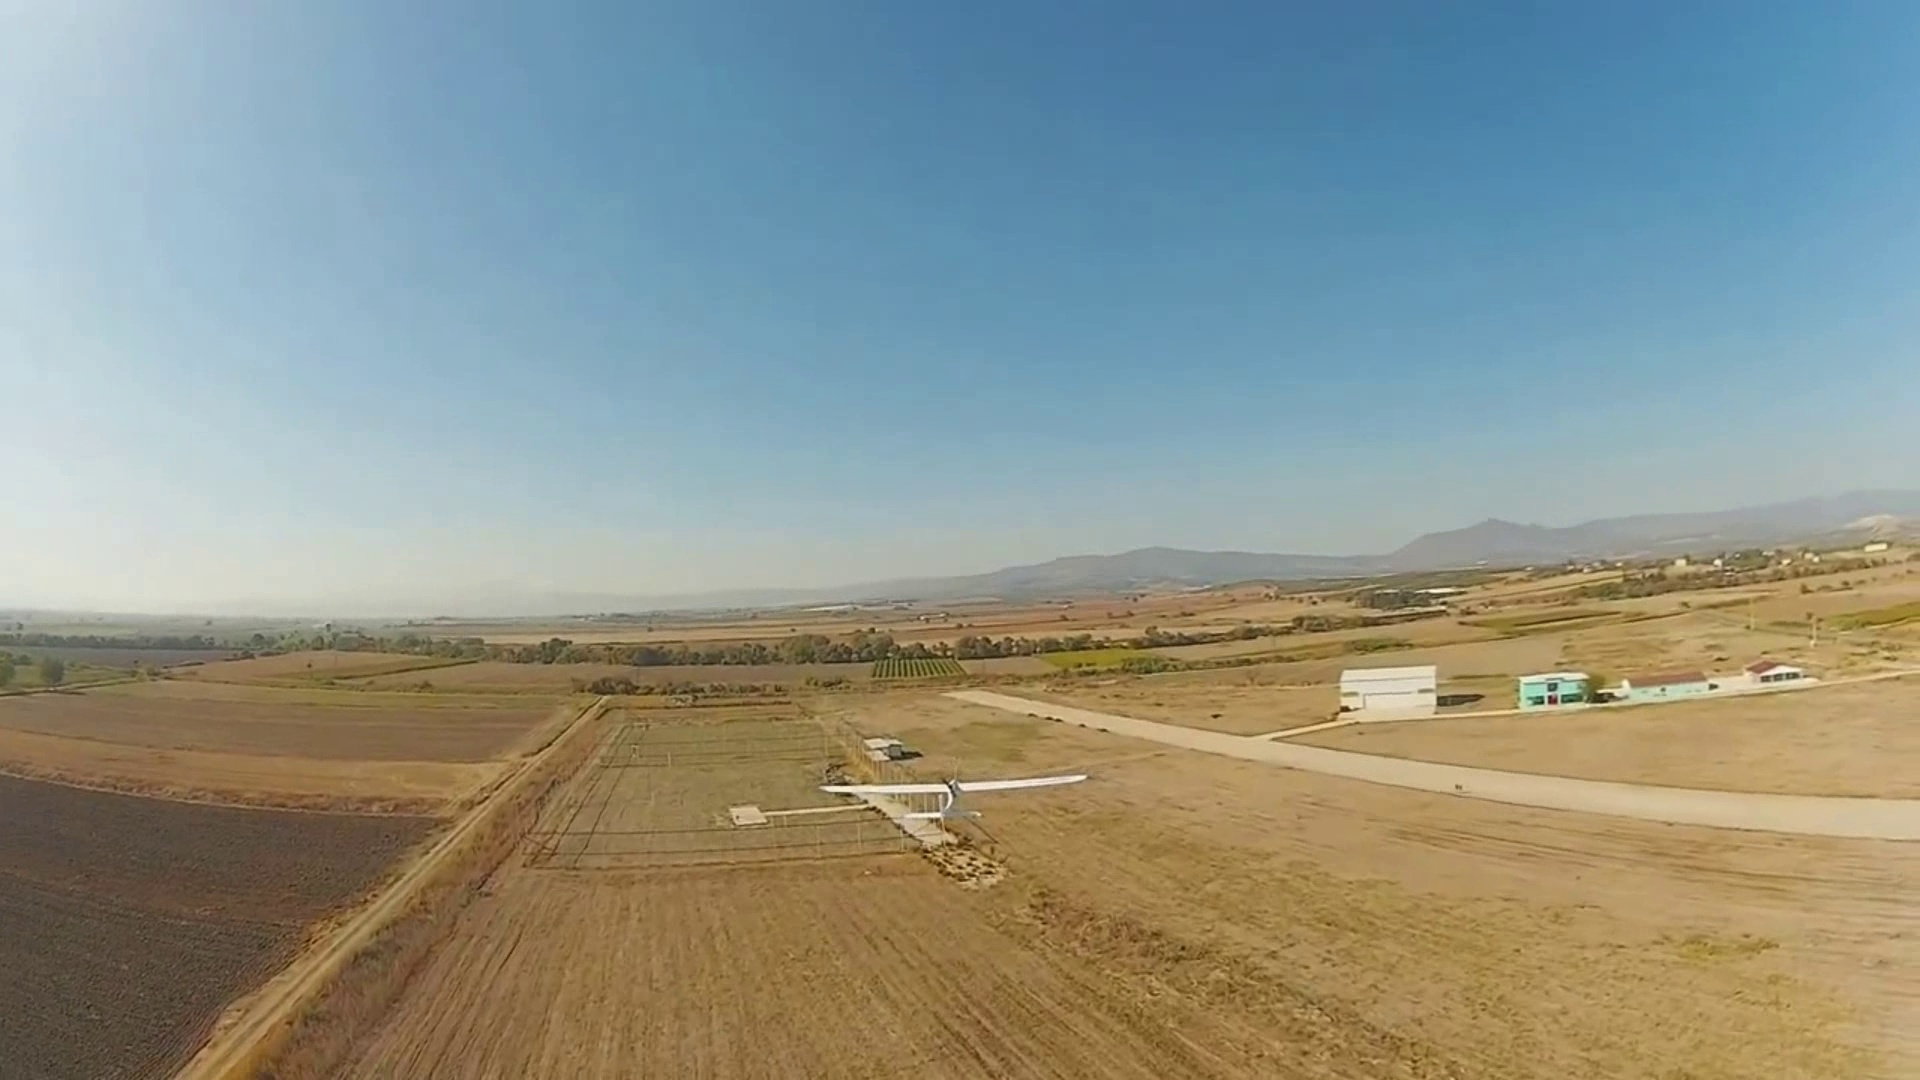airplane: (819, 733, 1091, 857)
